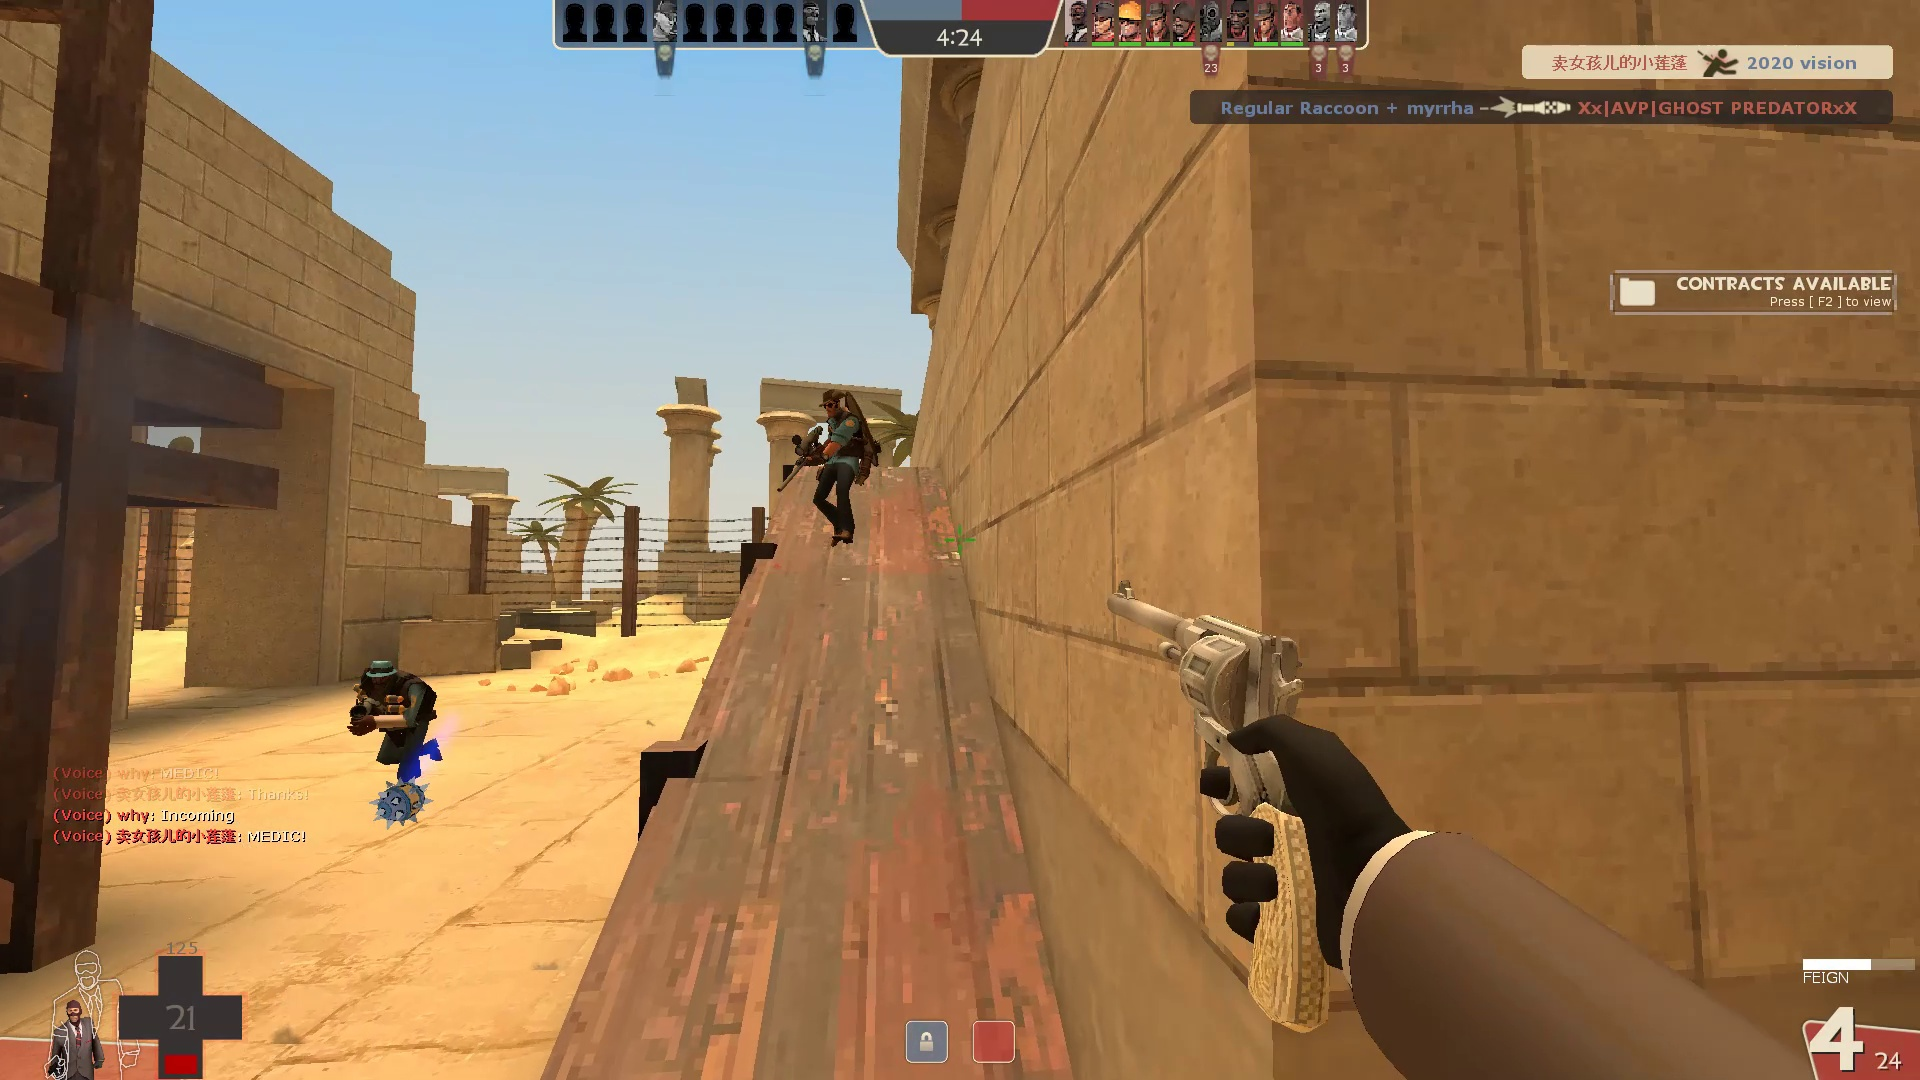blu_demo: (338, 649, 451, 814)
blu_sniper: (774, 384, 887, 558)
